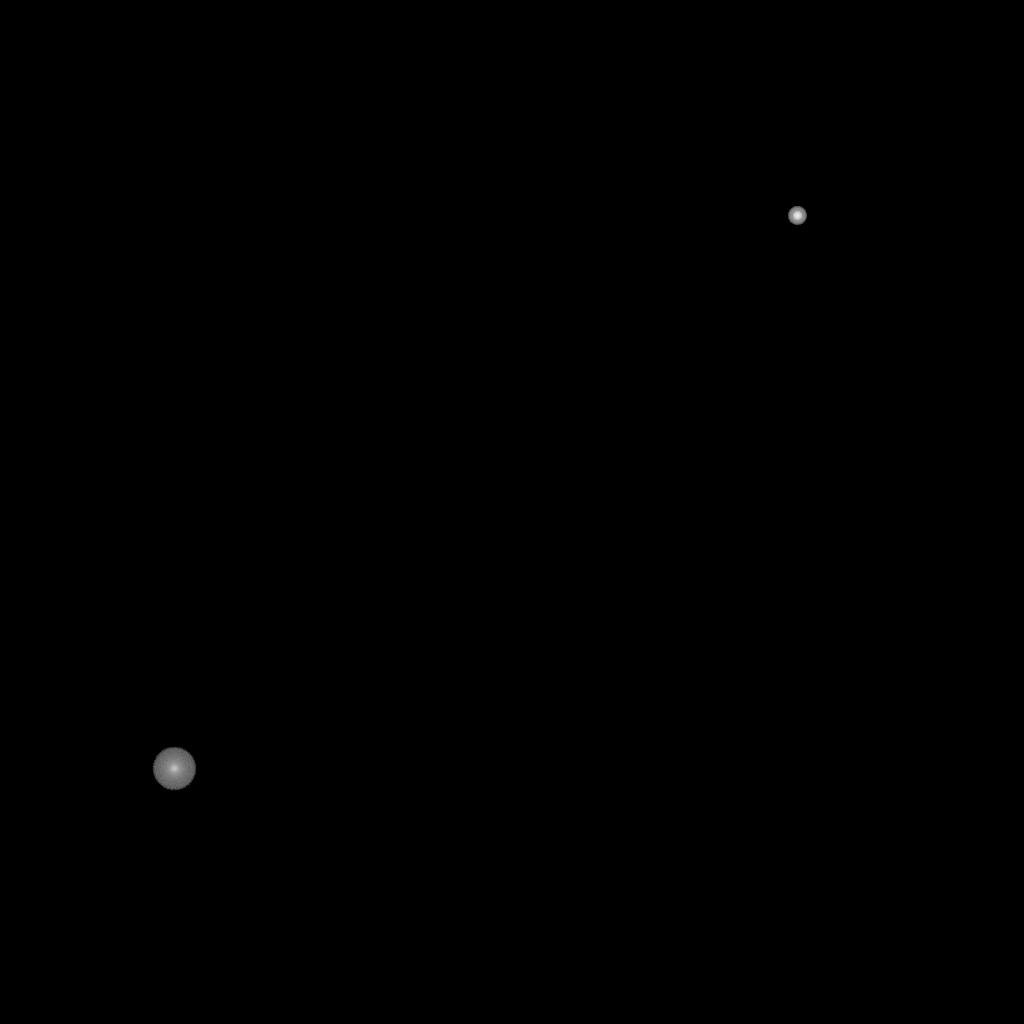depth:-20: (788, 207, 806, 225)
depth:10: (152, 747, 196, 791)
